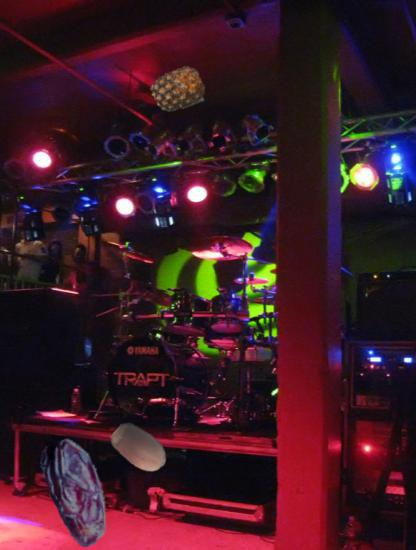Dates: (23, 438, 132, 547)
Hazelnut: (110, 418, 171, 479)
Pineapple: (151, 63, 205, 117)
